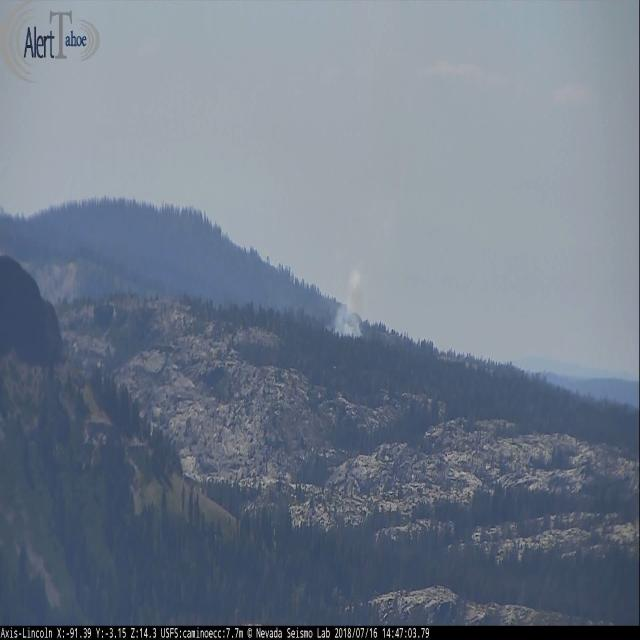smoke: (326, 270, 365, 337)
